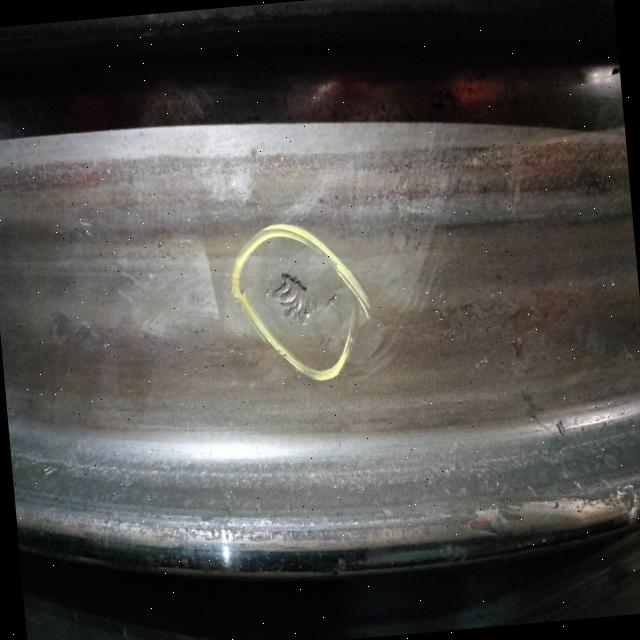Blue hole: (263, 264, 342, 340)
